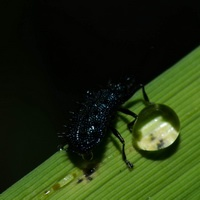insect: (64, 77, 142, 167)
